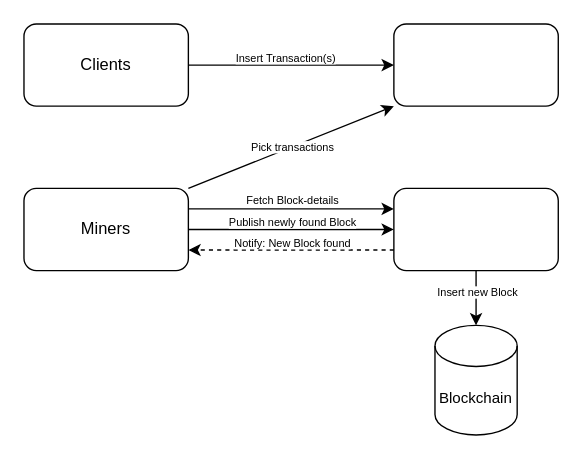
Some shapes in this 582 by 459 pixel diagram are drawn without their labels. Each missing label, with the centre of its shape:
Blockchain Supervisor: point 475,229
Transaction Pool: point 475,64
